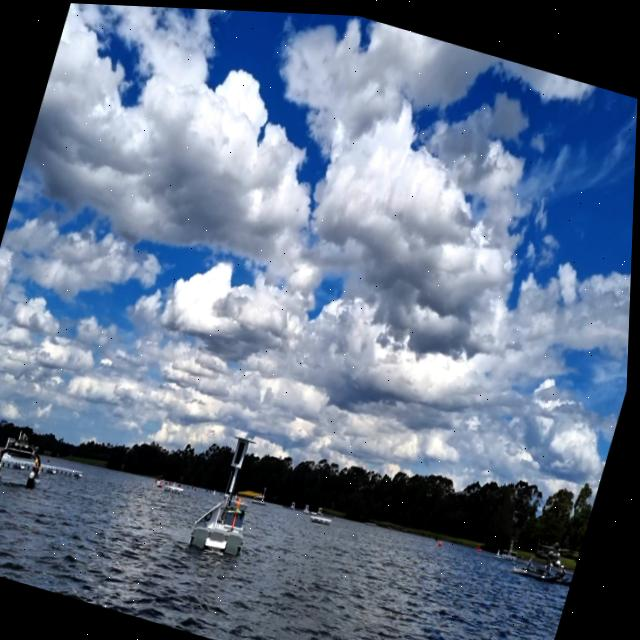led: (235, 436, 251, 465)
